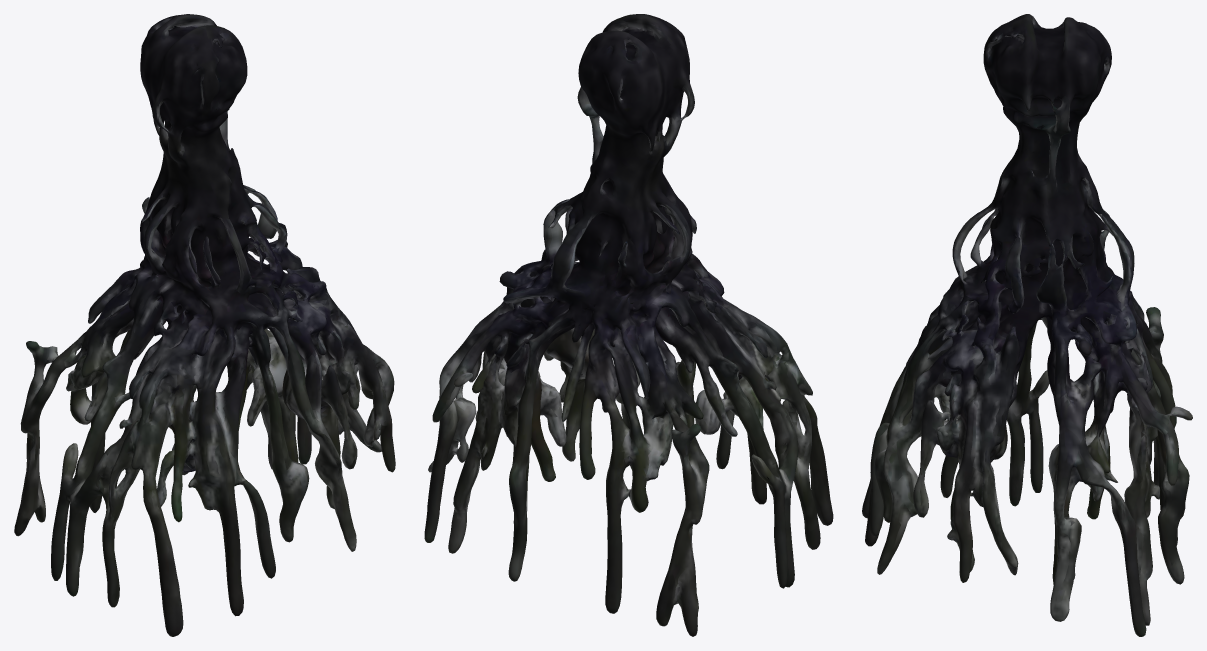
The model's file is defa735d5517_A_tall_creature_made_of_slen_0_glb.glb.
3 views of the same model, side by side, from view 1: azimuth 30°, elevation 25°; view 2: azimuth 150°, elevation 25°; view 3: azimuth 270°, elevation 25° (orthographic). The views are drawn at different scales.
Visible parts, largest first — view 1: world; view 2: world; view 3: world.
Boxes of the visible parts, x1,y1,x2,y2 form: world: (14, 14, 395, 636); world: (424, 14, 833, 636); world: (862, 14, 1192, 636).
Bounding box in the file's own units: 0.3303 × 0.493 × 0.2653.
1 material, 1 textured.
